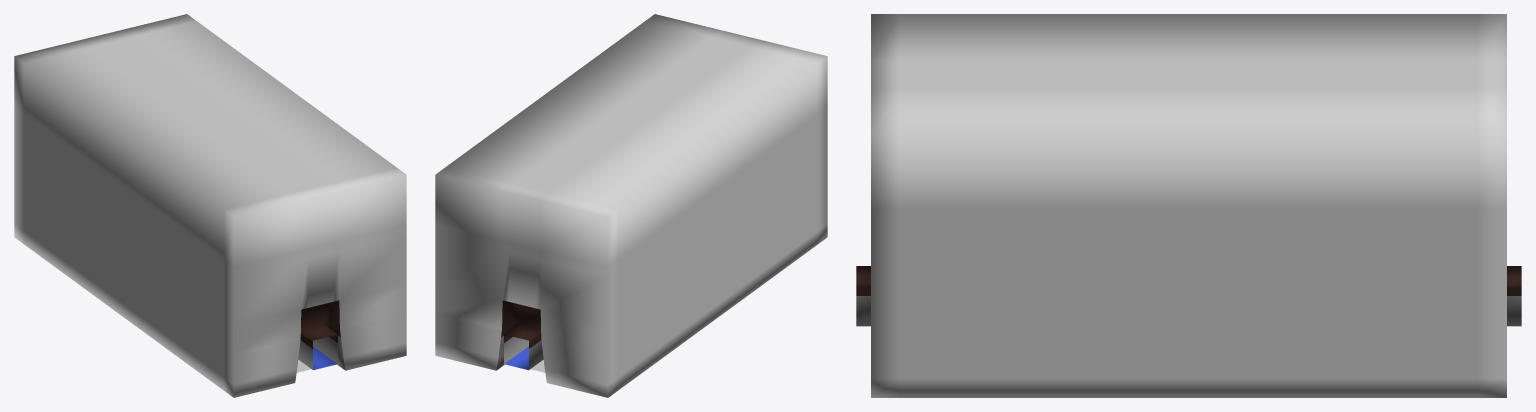
The model's file is testarea1.fbx.
3 views of the same model, side by side, from view 1: azimuth 30°, elevation 25°; view 2: azimuth 150°, elevation 25°; view 3: azimuth 270°, elevation 25° (orthographic). The views are drawn at different scales.
Parts seen in each view (by area): view 1: area0; view 2: area0; view 3: area0.
Boxes of the visible parts, x1,y1,x2,y2 form: area0: (14, 14, 406, 397); area0: (435, 14, 827, 397); area0: (856, 14, 1521, 397).
Bounding box in the file's own units: 2.47 × 2.47 × 5.68.
